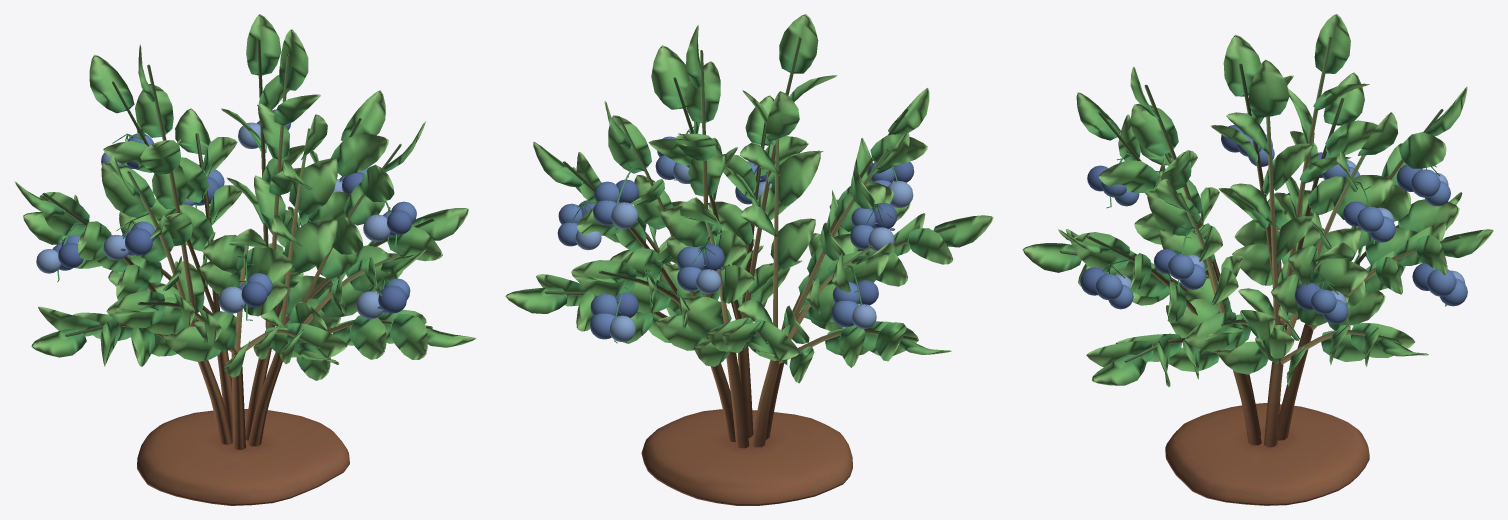
File: blueberry.glb
The picture shows the model from 3 angles, left to right: view 1: azimuth 30°, elevation 25°; view 2: azimuth 150°, elevation 25°; view 3: azimuth 270°, elevation 25°; orthographic projection.
Visible parts, largest first — view 1: blueberry; view 2: blueberry; view 3: blueberry.
Part boxes in pixels (box(x1,y1,x2,y2)): blueberry: box(14, 14, 476, 505); blueberry: box(505, 14, 993, 505); blueberry: box(1022, 14, 1493, 505).
Size of the model in its own units: 1.01 by 1 by 1.01.
Materials: 4 (1 with a texture image).
